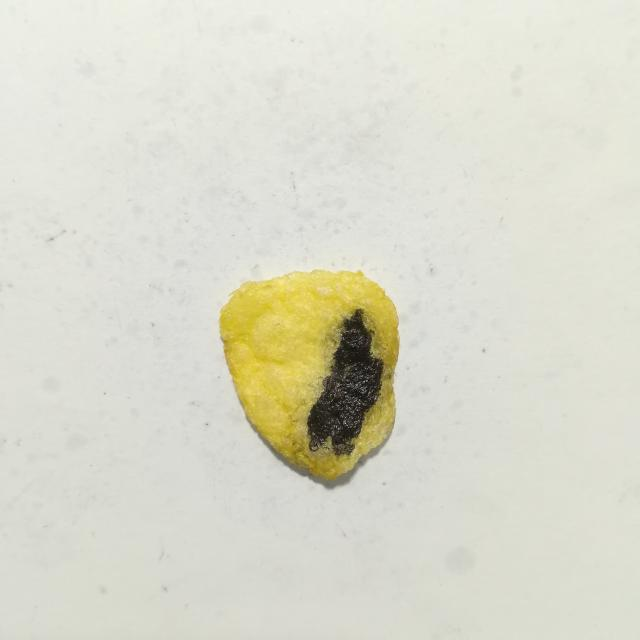chip: (219, 270, 399, 480)
damaged: (307, 310, 383, 455)
semi-damaged: (360, 309, 397, 429), (311, 311, 354, 409), (311, 437, 336, 459)
